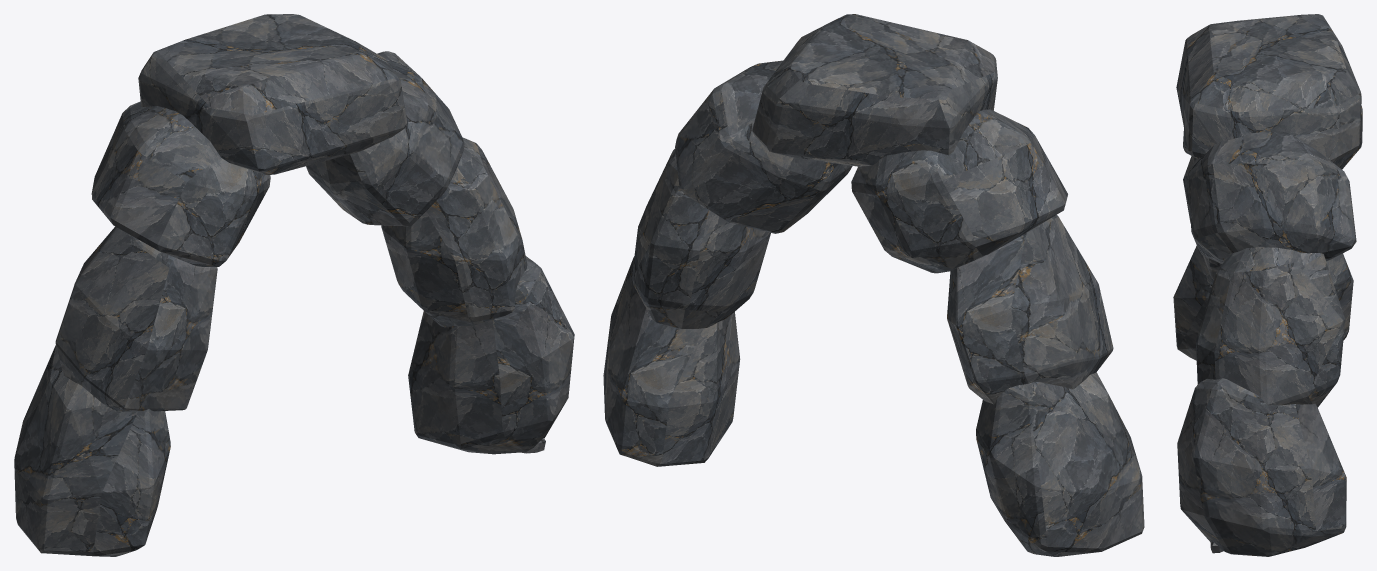
Rendered from Cave_R12_OpenArch.fbx.
The picture shows the model from 3 angles, left to right: view 1: azimuth 30°, elevation 25°; view 2: azimuth 150°, elevation 25°; view 3: azimuth 270°, elevation 25°; orthographic projection. The views are drawn at different scales.
Visible parts, largest first — view 1: Cave_R12_OpenArch_LOD0; view 2: Cave_R12_OpenArch_LOD0; view 3: Cave_R12_OpenArch_LOD0.
Part boxes in pixels (left/top/right/bottom): Cave_R12_OpenArch_LOD0: left=14, top=14, right=574, bottom=556; Cave_R12_OpenArch_LOD0: left=603, top=14, right=1144, bottom=556; Cave_R12_OpenArch_LOD0: left=1173, top=14, right=1362, bottom=556.
Size of what is drawn, in the model's own units: 5.33 by 4.31 by 1.84.
1 material, 1 textured.
